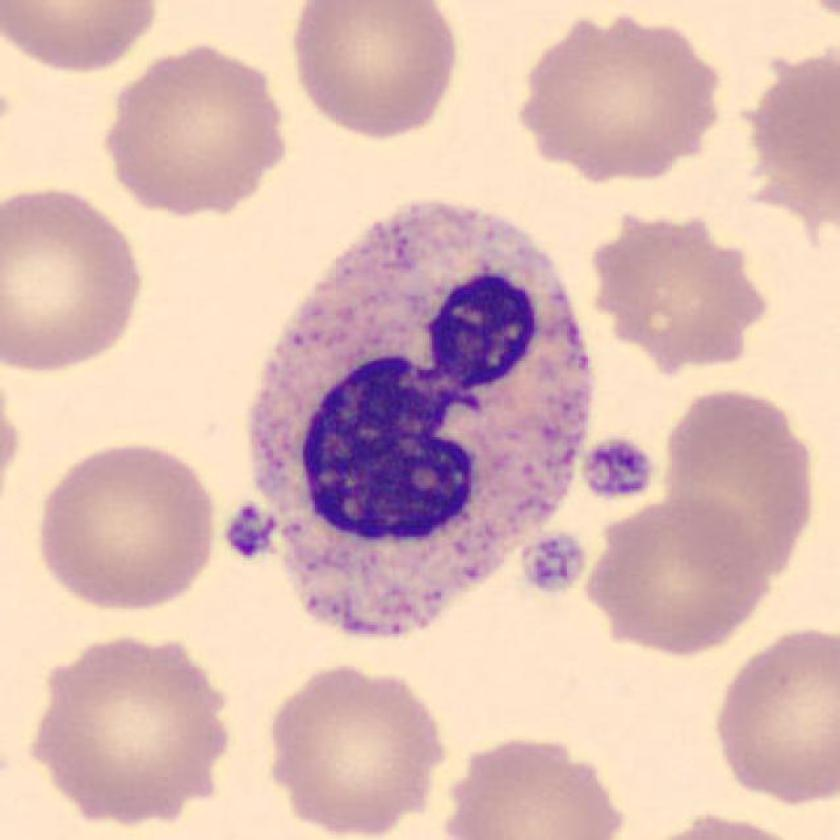neutrophil: (247, 202, 596, 636)
